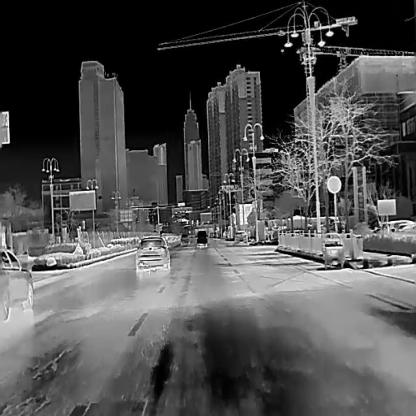car: (0, 248, 32, 319), (134, 235, 170, 271), (194, 230, 208, 247), (233, 230, 248, 243), (180, 232, 190, 244)
